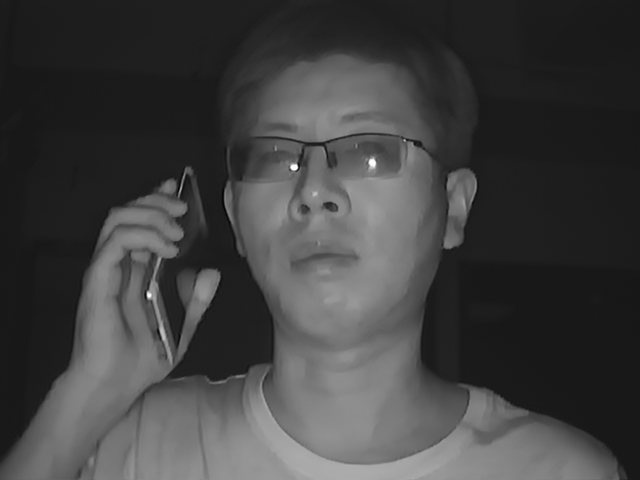hand: (80, 175, 217, 383)
